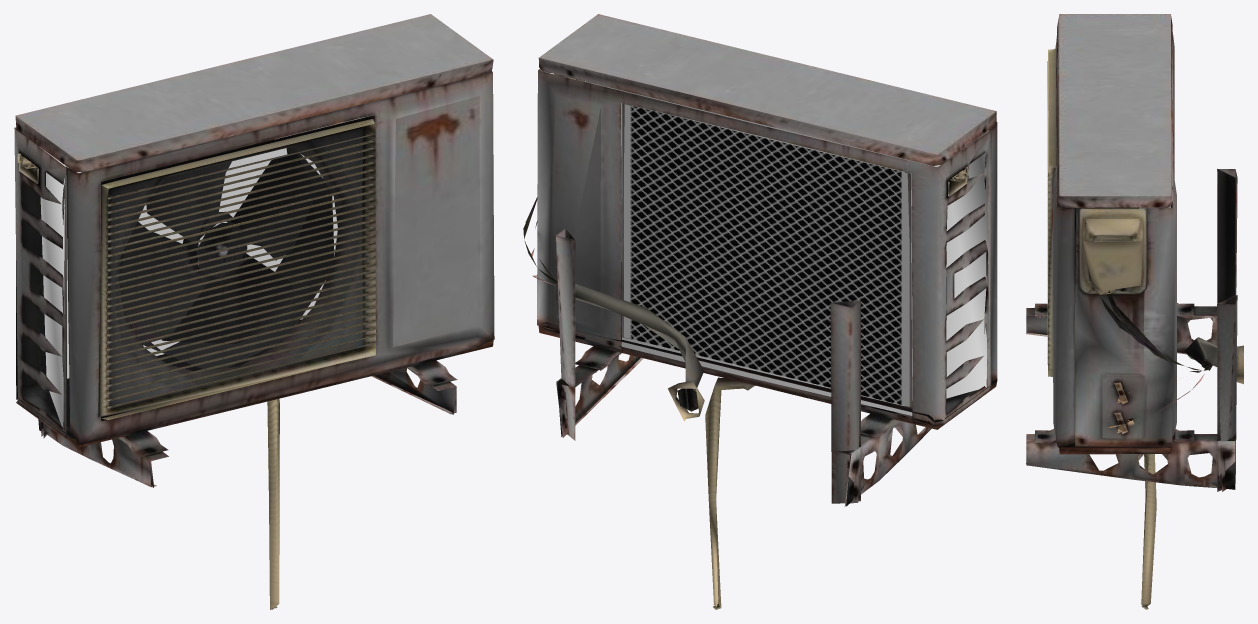
File: aircon.glb
The picture shows the model from 3 angles, left to right: view 1: azimuth 30°, elevation 25°; view 2: azimuth 150°, elevation 25°; view 3: azimuth 270°, elevation 25°; orthographic projection. The views are drawn at different scales.
Visible parts, largest first — view 1: aircon; view 2: aircon; view 3: aircon.
Part boxes in pixels (box(x1,y1,x2,y2)): aircon: box(14, 14, 494, 609); aircon: box(523, 14, 997, 609); aircon: box(1026, 14, 1243, 609).
Bounding box in the file's own units: 0.7987 × 0.9265 × 0.3748.
2 materials, 2 textured.
